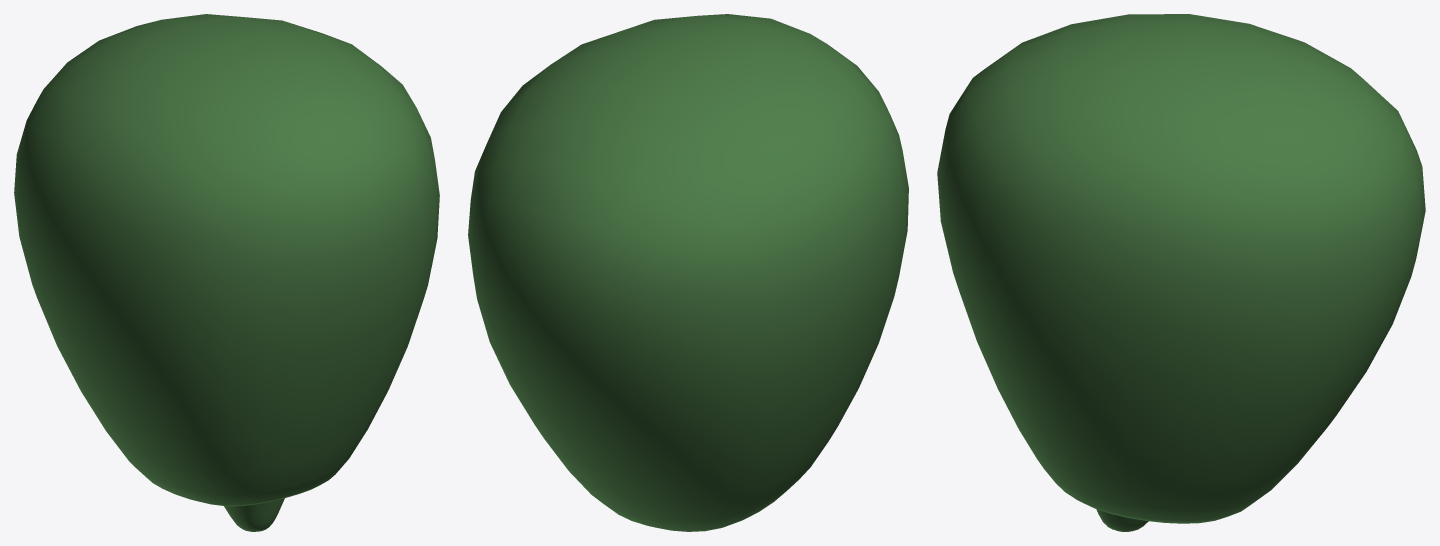
The model's file is Bush_thing_4.fbx.
The picture shows the model from 3 angles, left to right: view 1: azimuth 30°, elevation 25°; view 2: azimuth 150°, elevation 25°; view 3: azimuth 270°, elevation 25°; orthographic projection. The views are drawn at different scales.
Visible parts, largest first — view 1: pCube20; view 2: pCube20; view 3: pCube20.
Boxes of the visible parts, <box> form: pCube20: <box>14,14,439,531</box>; pCube20: <box>468,14,908,531</box>; pCube20: <box>937,14,1425,531</box>.
Bounding box in the file's own units: 385 × 482 × 439.
